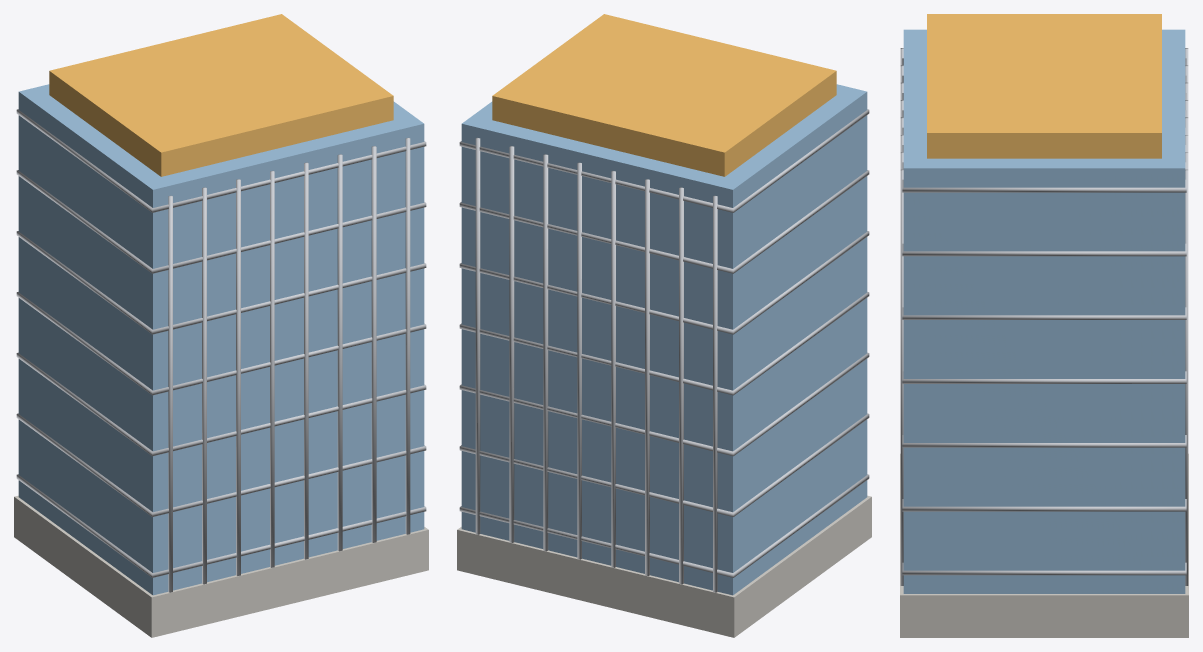
Rendered from B_tower.fbx.
The picture shows the model from 3 angles, left to right: view 1: azimuth 30°, elevation 25°; view 2: azimuth 150°, elevation 25°; view 3: azimuth 270°, elevation 25°; orthographic projection. The views are drawn at different scales.
Visible parts, largest first — view 1: Glass.006, Trim.005, Metal.004, Concrete.006; view 2: Glass.006, Trim.005, Metal.004, Concrete.006; view 3: Glass.006, Trim.005, Metal.004, Concrete.006.
Boxes of the visible parts, x1=… form: Glass.006: x1=18, y1=84, x2=424, y2=595; Trim.005: x1=49, y1=14, x2=393, y2=176; Metal.004: x1=16, y1=109, x2=426, y2=592; Concrete.006: x1=14, y1=495, x2=428, y2=637; Glass.006: x1=461, y1=84, x2=867, y2=595; Trim.005: x1=492, y1=14, x2=836, y2=176; Metal.004: x1=459, y1=109, x2=869, y2=592; Concrete.006: x1=457, y1=495, x2=871, y2=637; Glass.006: x1=903, y1=29, x2=1185, y2=593; Trim.005: x1=927, y1=14, x2=1161, y2=158; Metal.004: x1=900, y1=48, x2=1188, y2=585; Concrete.006: x1=900, y1=453, x2=1188, y2=637.
Bounding box in the file's own units: 28.6 × 46.4 × 24.6.
